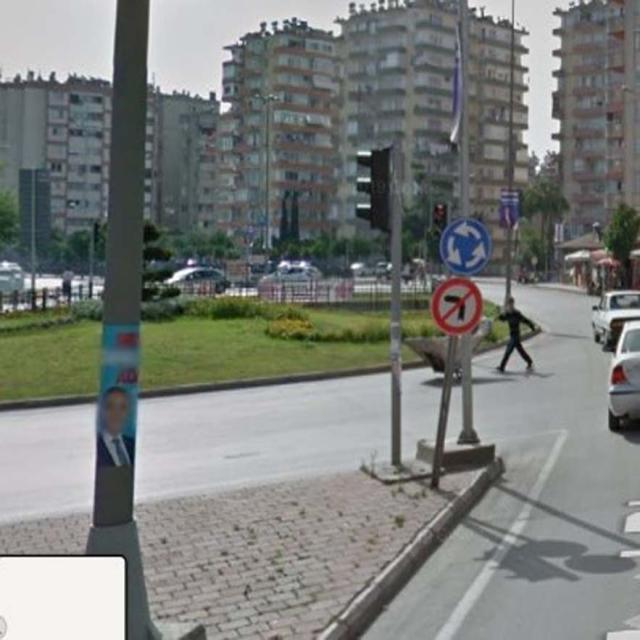soladonulmez: (432, 278, 481, 334)
